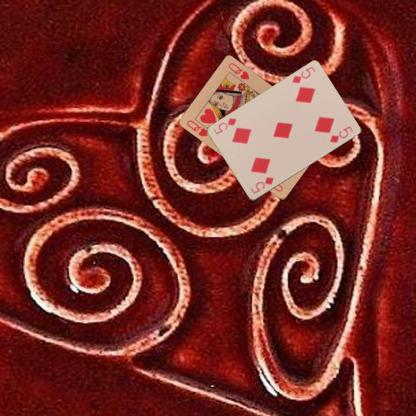5d: (248, 174, 275, 196), (289, 64, 316, 85)
Qh: (184, 118, 209, 138)
